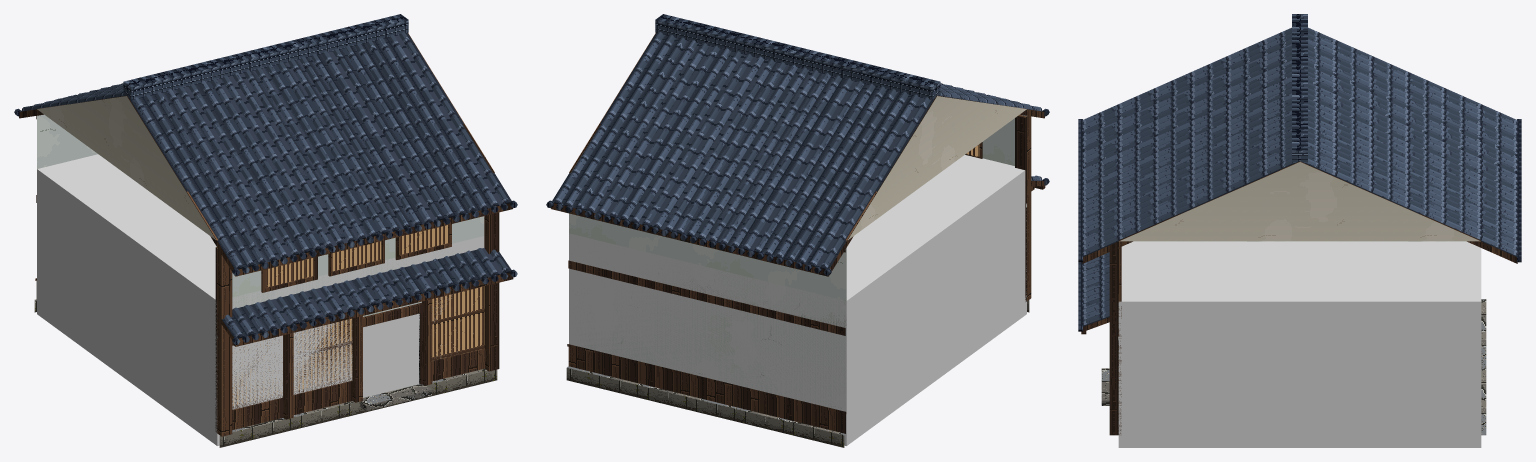
File: JP_Row_House_B_M.glb
3 views of the same model, side by side, from view 1: azimuth 30°, elevation 25°; view 2: azimuth 150°, elevation 25°; view 3: azimuth 270°, elevation 25° (orthographic).
Parts seen in each view (by area): view 1: JP_Row_House_B_M, COL_JP_Row_House_B_M; view 2: JP_Row_House_B_M, COL_JP_Row_House_B_M; view 3: JP_Row_House_B_M, COL_JP_Row_House_B_M.
Part boxes in pixels (box(x1,y1,x2,y2)): JP_Row_House_B_M: box(14, 14, 517, 447); COL_JP_Row_House_B_M: box(37, 154, 484, 445); JP_Row_House_B_M: box(546, 14, 1049, 447); COL_JP_Row_House_B_M: box(569, 155, 1026, 445); JP_Row_House_B_M: box(1078, 14, 1521, 435); COL_JP_Row_House_B_M: box(1118, 241, 1481, 447).
Bounding box in the file's own units: 8.17 × 8.14 × 11.
Materials: 13 (13 with a texture image).
